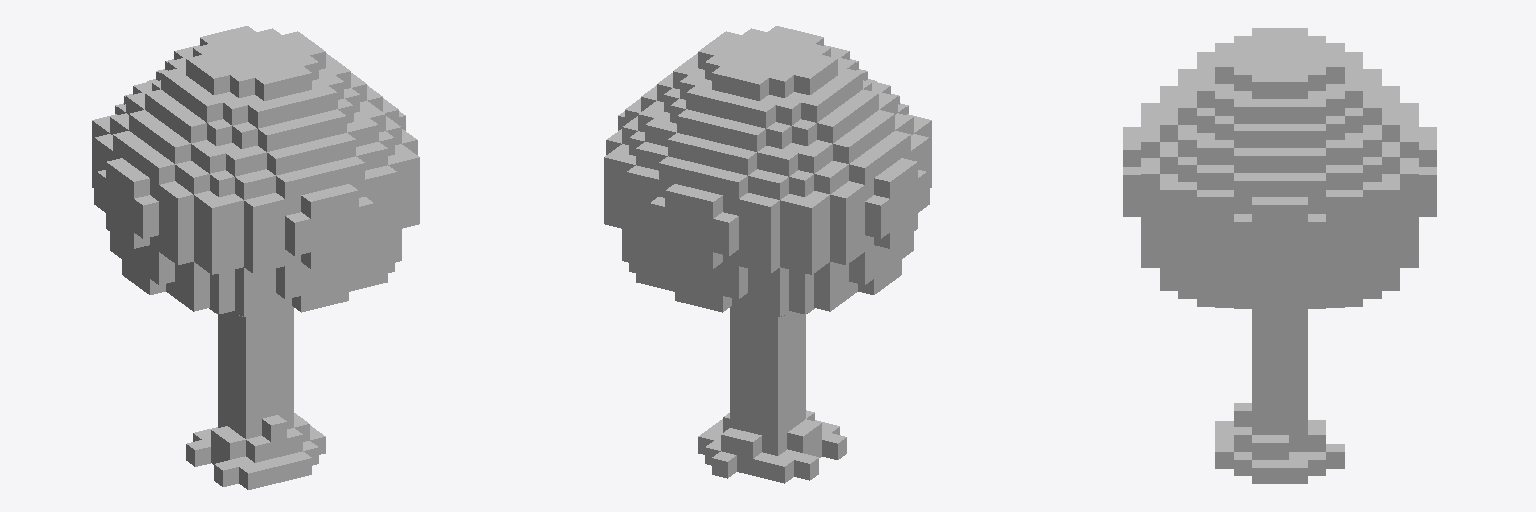
The model's file is tree1.obj.
The picture shows the model from 3 angles: view 1: azimuth 30°, elevation 25°; view 2: azimuth 150°, elevation 25°; view 3: azimuth 270°, elevation 25°; orthographic projection.
Parts seen in each view (by area): view 1: object 1; view 2: object 1; view 3: object 1.
Boxes of the visible parts, box(x1,y1,x2,y2) form: object 1: box(92, 26, 419, 489); object 1: box(604, 26, 931, 483); object 1: box(1123, 28, 1436, 483).
Size of the model in its own units: 1.7 by 2.4 by 1.7.